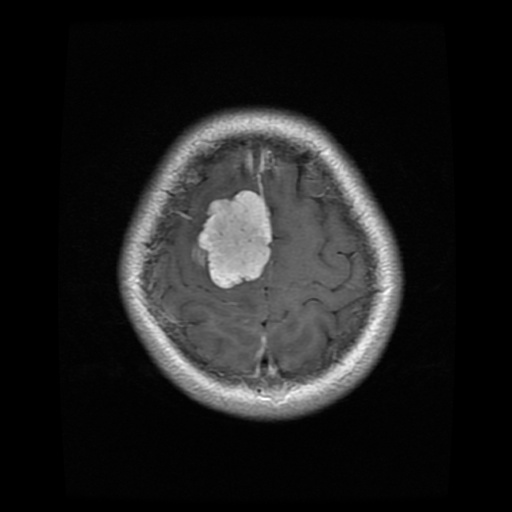meningioma: (196, 190, 273, 289)
